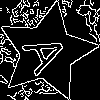A: (21, 27, 78, 77)
